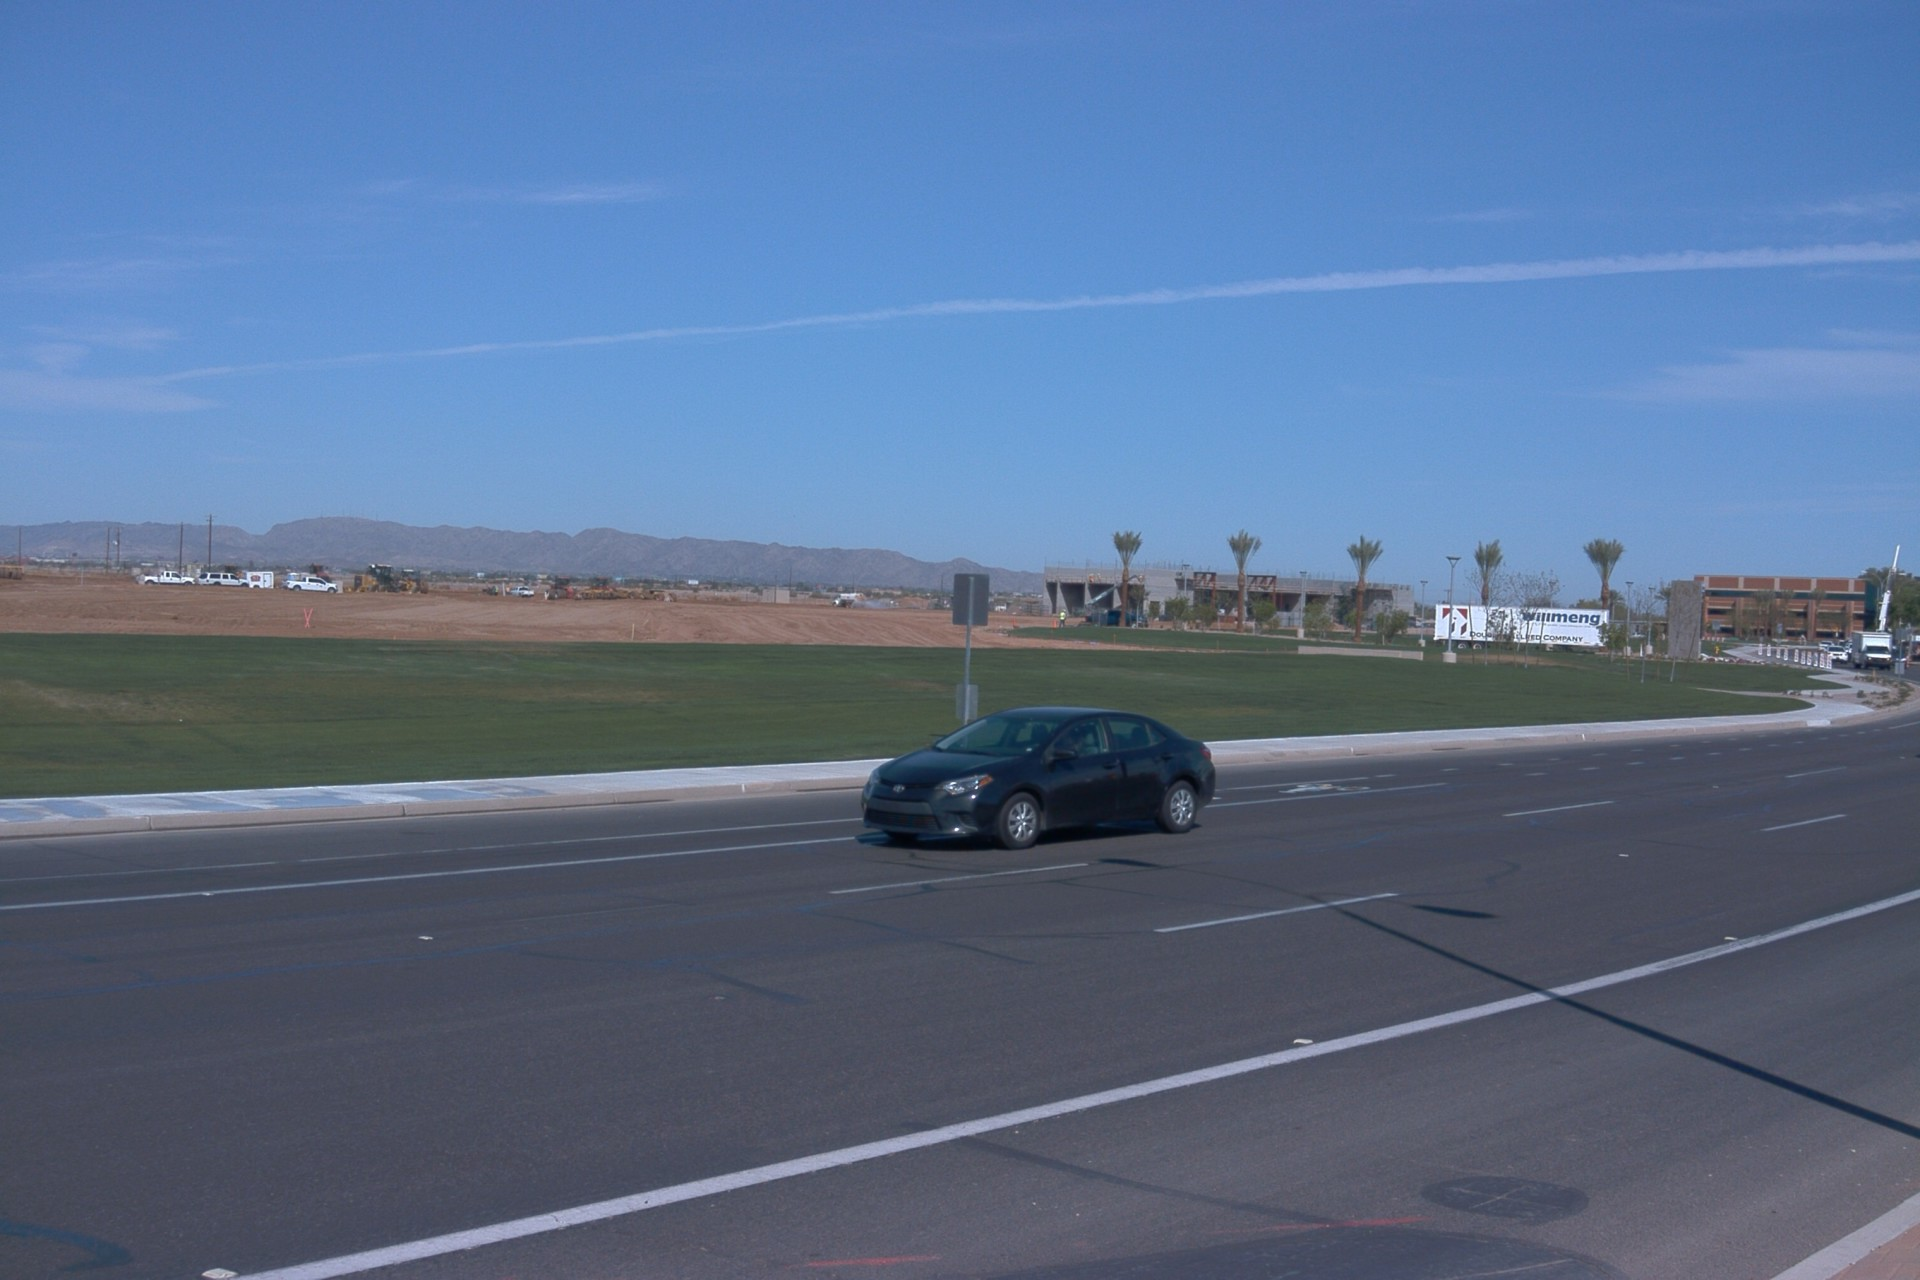TYPE_PEDESTRIAN: (1059, 610, 1068, 629), (504, 586, 510, 597), (495, 586, 500, 597)
TYPE_VEHICLE: (857, 704, 1215, 851), (1431, 603, 1612, 656), (1079, 568, 1147, 614), (343, 566, 421, 599), (1873, 543, 1898, 632), (1848, 630, 1893, 672), (1084, 607, 1149, 628), (281, 573, 339, 591), (142, 573, 198, 591), (394, 567, 431, 593), (829, 588, 873, 608), (195, 575, 247, 590), (241, 573, 276, 592), (309, 564, 332, 585), (1825, 644, 1849, 663), (223, 563, 247, 581), (504, 582, 535, 595), (1890, 647, 1907, 668), (1817, 639, 1834, 651)
